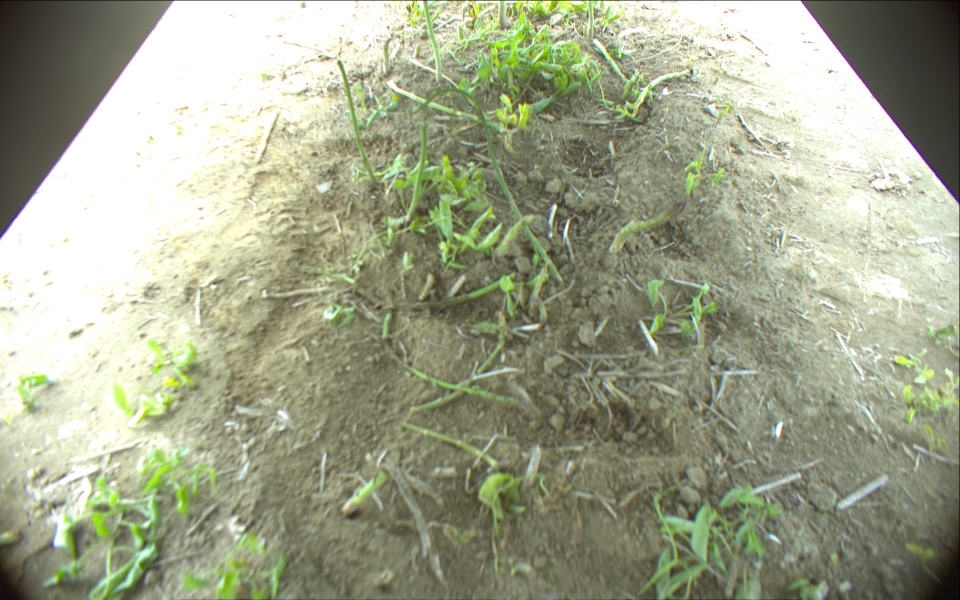aspa: (420, 84, 563, 283), (383, 315, 516, 408), (411, 327, 513, 413), (386, 78, 504, 132), (337, 59, 380, 189), (383, 271, 517, 311), (398, 420, 500, 468), (608, 201, 686, 255), (400, 121, 429, 223), (631, 68, 693, 114), (341, 471, 389, 517), (251, 111, 281, 173), (592, 37, 629, 84), (421, 1, 442, 82), (381, 35, 393, 73), (585, 1, 595, 39), (497, 1, 507, 27), (412, 44, 423, 59)
